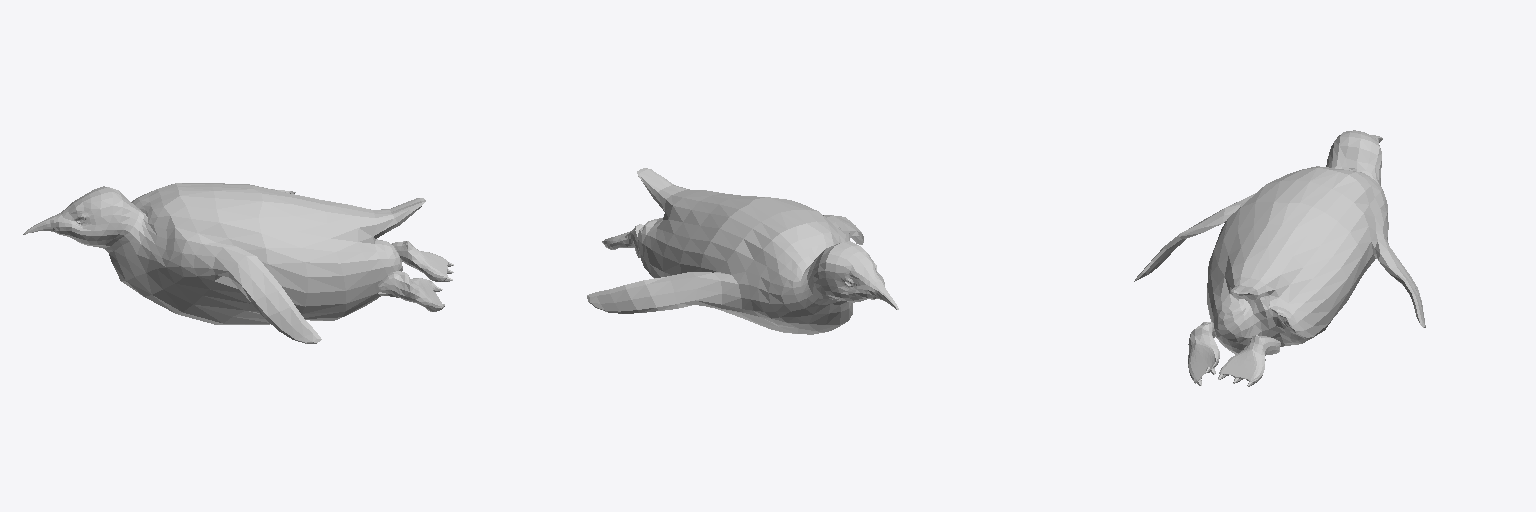
The picture shows the model from 3 angles: view 1: azimuth 30°, elevation 25°; view 2: azimuth 150°, elevation 25°; view 3: azimuth 270°, elevation 25°; orthographic projection.
Parts seen in each view (by area): view 1: penguin.004_penguin.005; view 2: penguin.004_penguin.005; view 3: penguin.004_penguin.005.
Boxes of the visible parts, x1=… form: penguin.004_penguin.005: x1=23, y1=183, x2=453, y2=343; penguin.004_penguin.005: x1=587, y1=168, x2=898, y2=334; penguin.004_penguin.005: x1=1134, y1=130, x2=1425, y2=386.
Size of the model in its own units: 28.01 by 9.7 by 19.43.